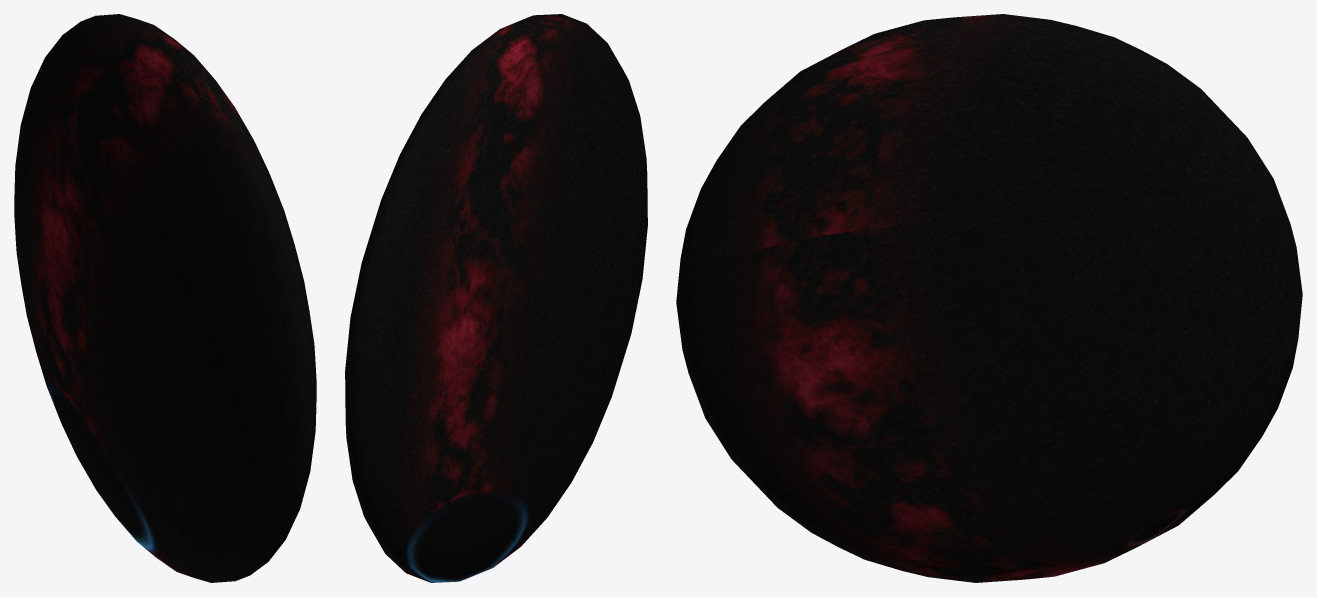
The model's file is portal.obj.
3 renders of one model, left to right at view 1: azimuth 30°, elevation 25°; view 2: azimuth 150°, elevation 25°; view 3: azimuth 270°, elevation 25°, orthographic. The views are drawn at different scales.
Visible parts, largest first — view 1: portal; view 2: portal; view 3: portal.
Part boxes in pixels (x1,y1,x2,y2): portal: (14, 14, 316, 582); portal: (345, 14, 647, 582); portal: (676, 14, 1302, 582).
Size of the model in its own units: 0.7111 by 4.18 by 4.19.
